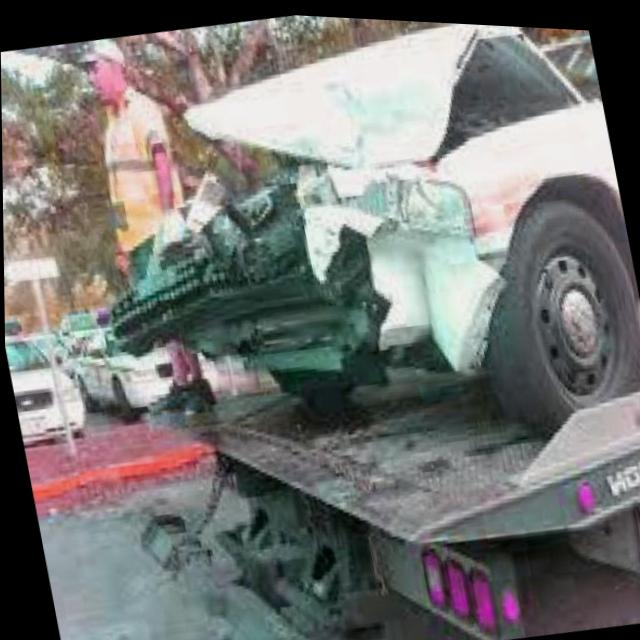Car-Damage: (53, 2, 631, 432)
